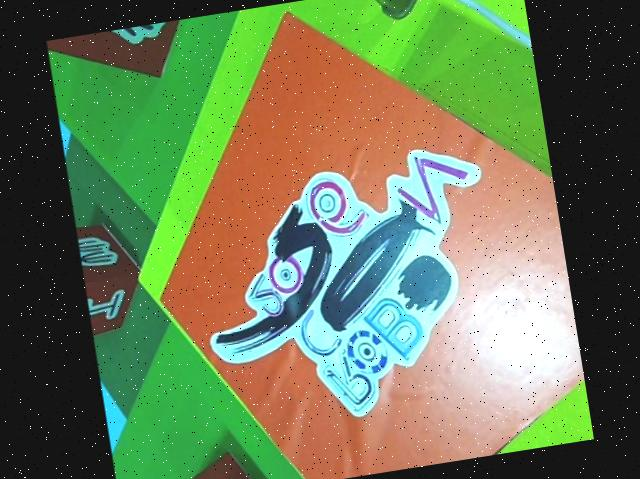R1: (115, 0, 593, 479)
R2 Fake: (46, 15, 216, 94), (75, 214, 149, 338), (113, 438, 293, 479)
